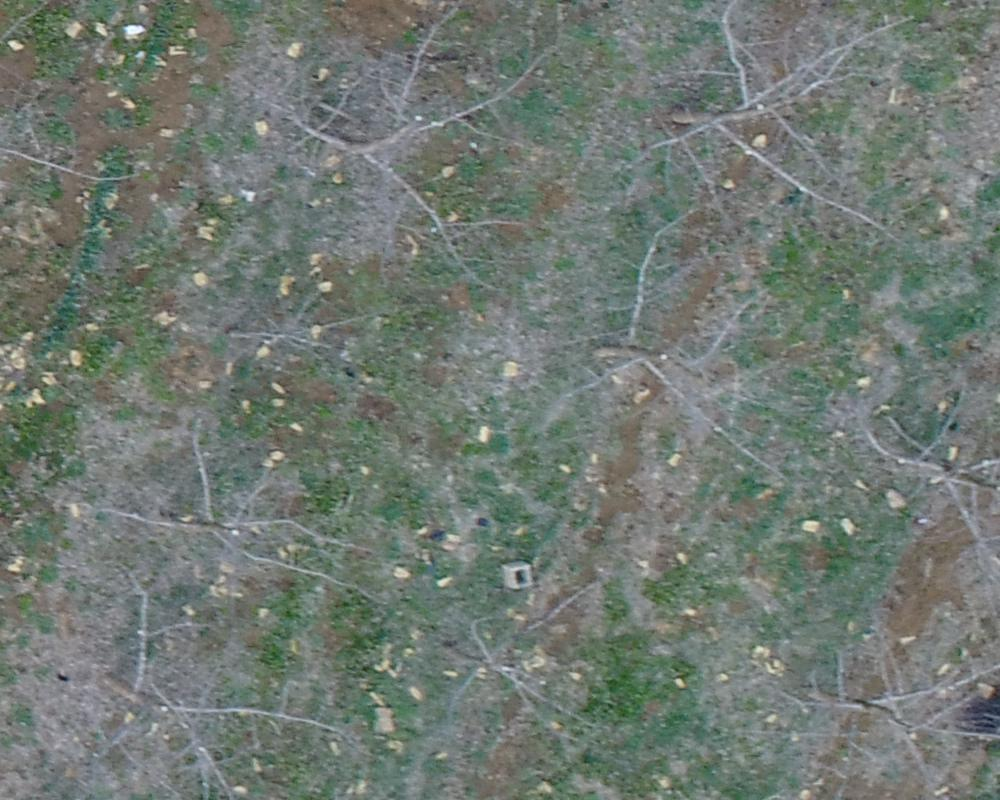apple: (197, 13, 549, 277), (607, 10, 957, 257), (541, 230, 822, 495), (29, 578, 358, 790), (73, 424, 388, 639), (820, 358, 990, 619), (419, 572, 634, 752), (763, 622, 990, 790), (179, 295, 399, 402)
